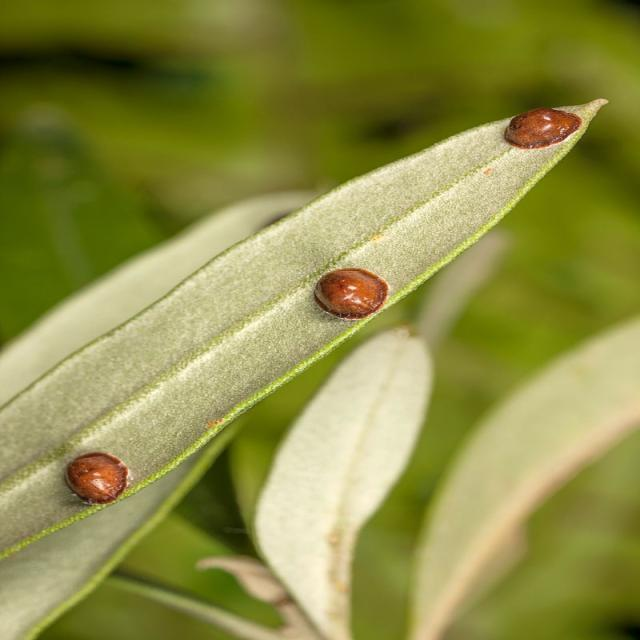BlackScale: (313, 268, 391, 322), (64, 452, 136, 506), (502, 106, 582, 150)
